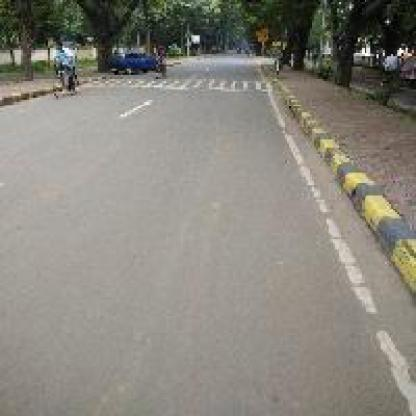Speed Bump: (79, 75, 273, 93)
